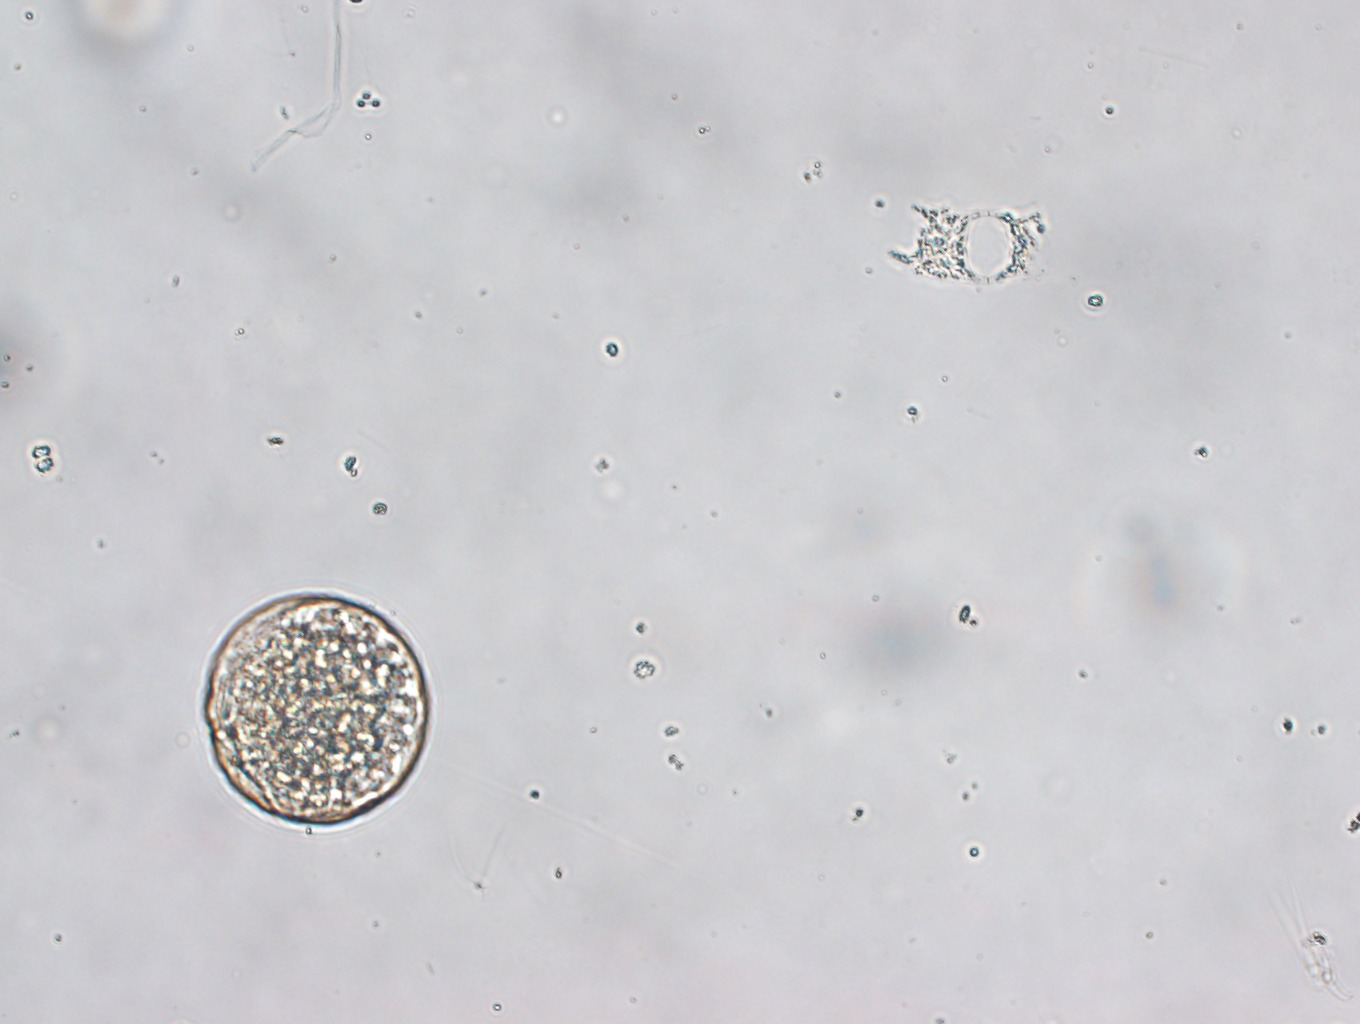coscinodiscus: (199, 591, 433, 828)
eucampia: (881, 196, 1049, 287)
